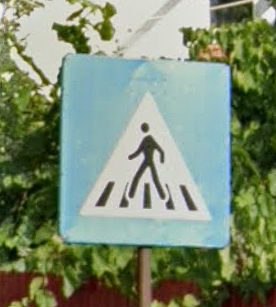trecere_pietoni: (54, 53, 232, 252)
